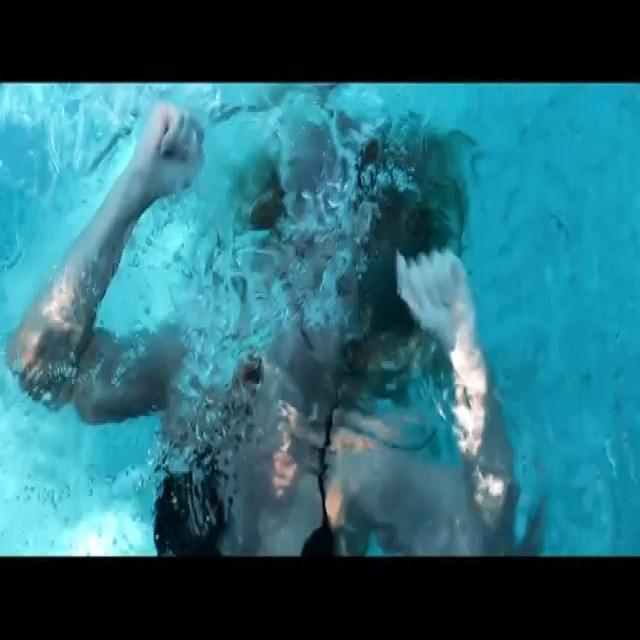Drowning: (3, 90, 588, 553)
